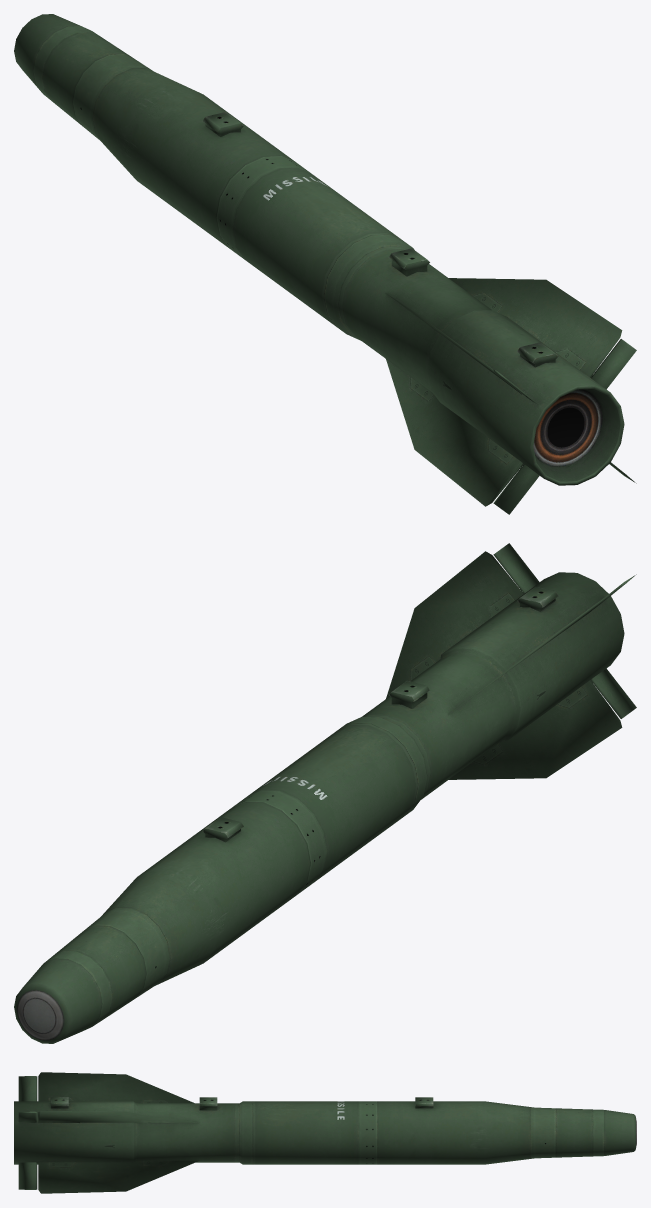
File: missile.glb
3 renders of one model, top to bottom at view 1: azimuth 30°, elevation 25°; view 2: azimuth 150°, elevation 25°; view 3: azimuth 270°, elevation 25°, orthographic. The views are drawn at different scales.
Visible parts, largest first — view 1: Object_32; view 2: Object_32; view 3: Object_32.
Part boxes in pixels (left/top/right/bottom): Object_32: left=14, top=14, right=636, bottom=514; Object_32: left=14, top=543, right=636, bottom=1043; Object_32: left=14, top=1072, right=636, bottom=1193.
Bounding box in the file's own units: 0.6808 × 0.6808 × 4.64.
Materials: 1 (1 with a texture image).
